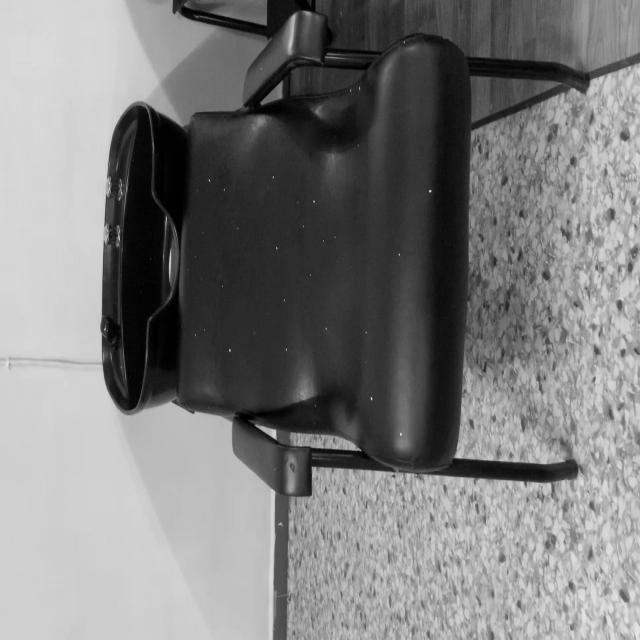chair: (97, 20, 593, 522)
